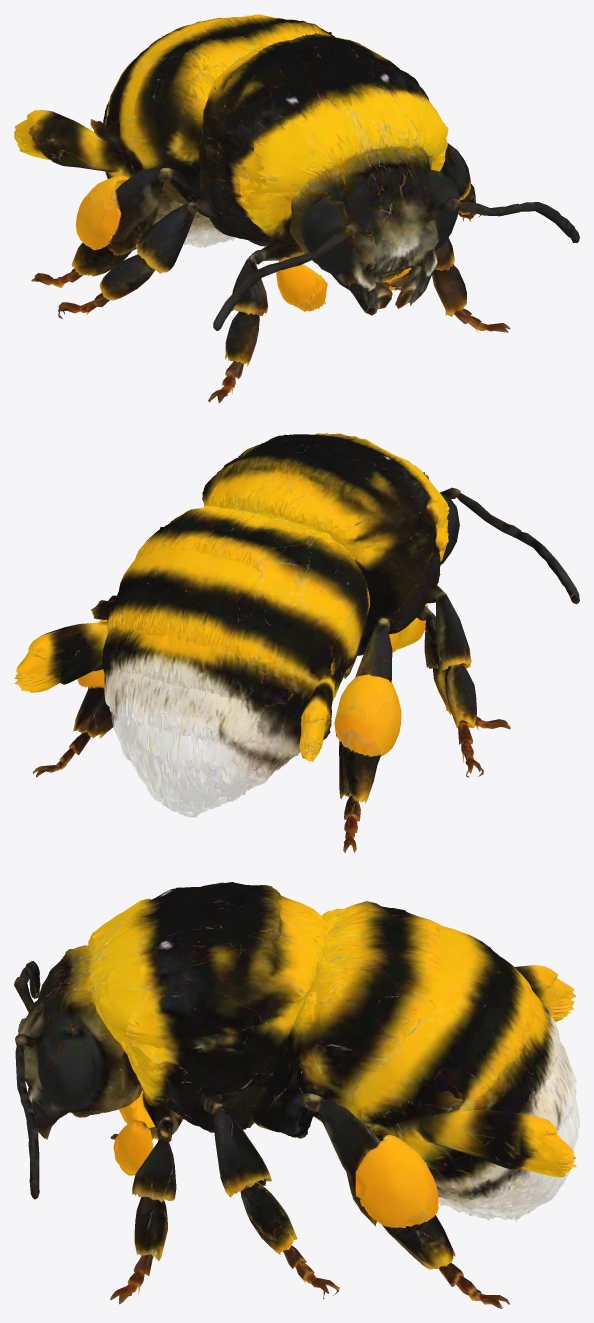
File: bee.glb
The picture shows the model from 3 angles, top to bottom: view 1: azimuth 30°, elevation 25°; view 2: azimuth 150°, elevation 25°; view 3: azimuth 270°, elevation 25°; orthographic projection. The views are drawn at different scales.
Parts seen in each view (by area): view 1: Mesh_0; view 2: Mesh_0; view 3: Mesh_0.
Boxes of the visible parts, x1,y1,x2,y2 form: Mesh_0: (14, 14, 579, 402); Mesh_0: (14, 433, 579, 853); Mesh_0: (14, 882, 579, 1308).
Size of the model in its own units: 1.87 by 1.19 by 1.88.
1 material, 1 textured.
